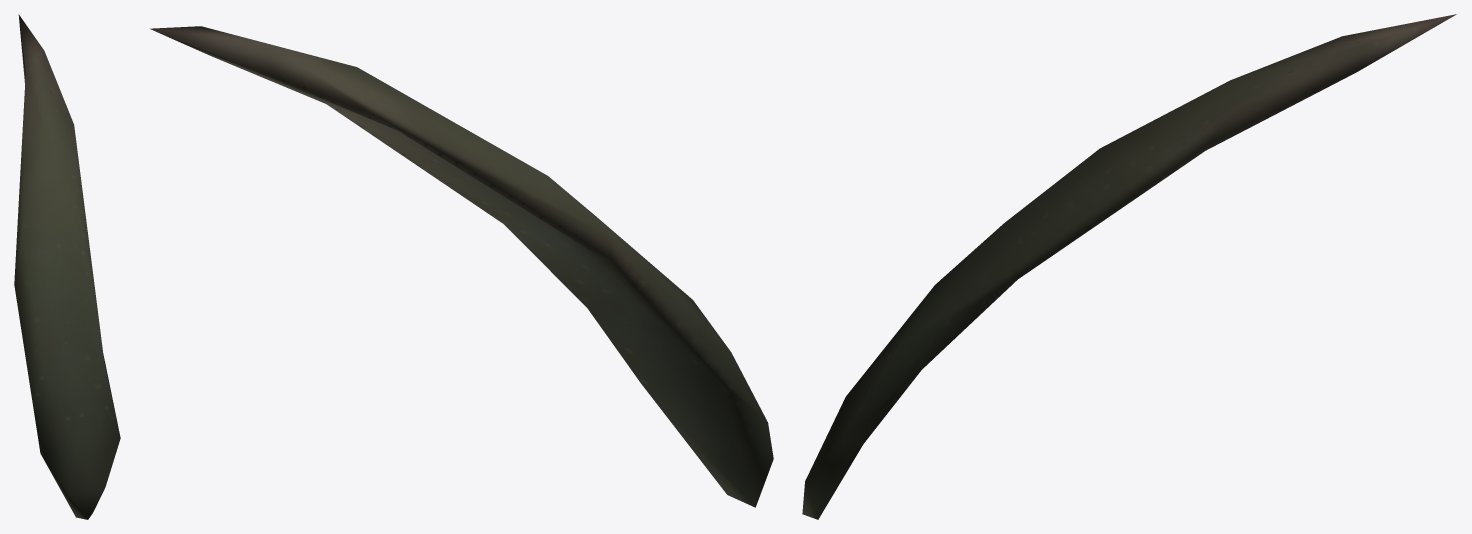
The model's file is DE_Cactus_b_Part_01.fbx.
3 renders of one model, left to right at view 1: azimuth 30°, elevation 25°; view 2: azimuth 150°, elevation 25°; view 3: azimuth 270°, elevation 25°, orthographic. The views are drawn at different scales.
Parts seen in each view (by area): view 1: DE_Cactus_b_Part_01; view 2: DE_Cactus_b_Part_01; view 3: DE_Cactus_b_Part_01.
Boxes of the visible parts, x1=… form: DE_Cactus_b_Part_01: x1=14, y1=14, x2=120, y2=519; DE_Cactus_b_Part_01: x1=150, y1=26, x2=773, y2=507; DE_Cactus_b_Part_01: x1=802, y1=14, x2=1456, y2=519.
Size of the model in its own units: 0.4807 by 1.09 by 1.08.
